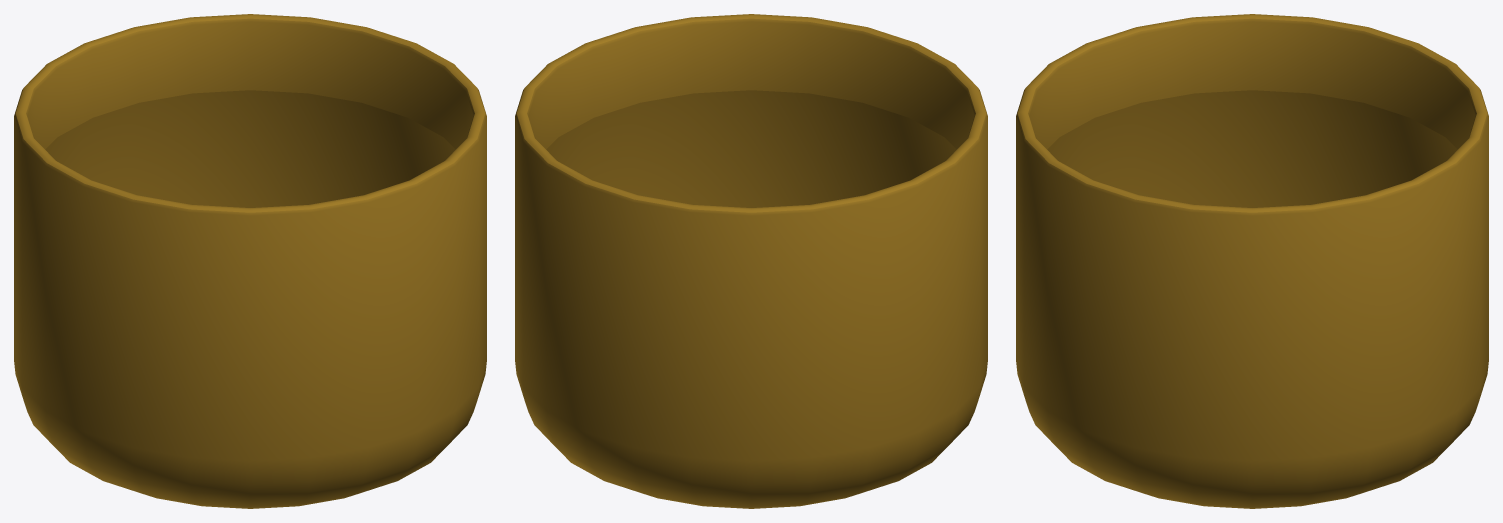
The model's file is Pot_2.FBX.
3 renders of one model, left to right at view 1: azimuth 30°, elevation 25°; view 2: azimuth 150°, elevation 25°; view 3: azimuth 270°, elevation 25°, orthographic.
Visible parts, largest first — view 1: Pot_5; view 2: Pot_5; view 3: Pot_5.
Part boxes in pixels (bbox=[...]): Pot_5: bbox=[14, 14, 486, 508]; Pot_5: bbox=[515, 14, 987, 508]; Pot_5: bbox=[1016, 14, 1488, 508].
Size of the model in its own units: 38.69 by 28.68 by 38.69.
